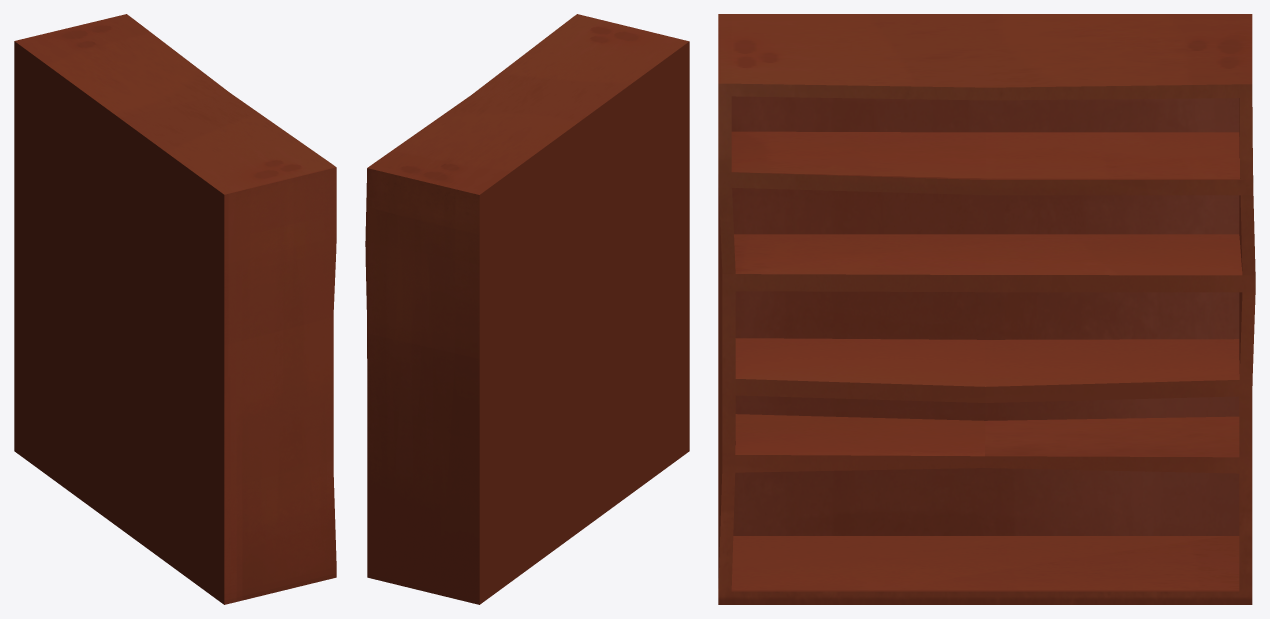
File: Bookshelf.fbx
3 renders of one model, left to right at view 1: azimuth 30°, elevation 25°; view 2: azimuth 150°, elevation 25°; view 3: azimuth 270°, elevation 25°, orthographic. The views are drawn at different scales.
Parts seen in each view (by area): view 1: Cube.024; view 2: Cube.024; view 3: Cube.024.
Boxes of the visible parts, <box> form: Cube.024: <box>14,14,336,604</box>; Cube.024: <box>365,14,689,604</box>; Cube.024: <box>718,14,1255,604</box>.
Size of the model in its own units: 139 by 477 by 446.
